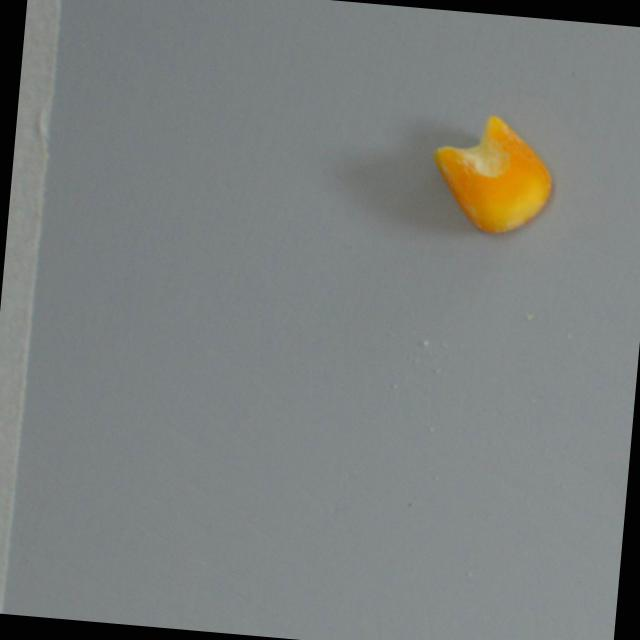pelicula: (424, 109, 556, 239)
